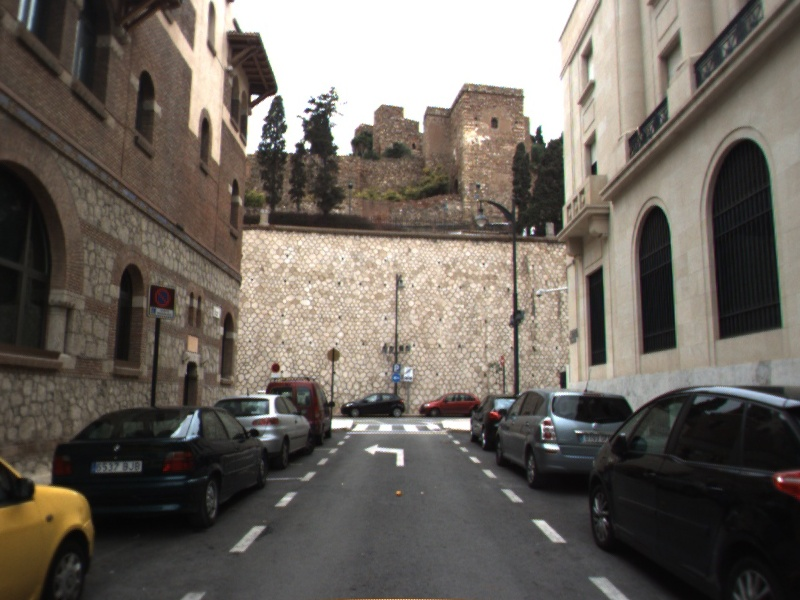LEFT: (362, 442, 406, 468)
